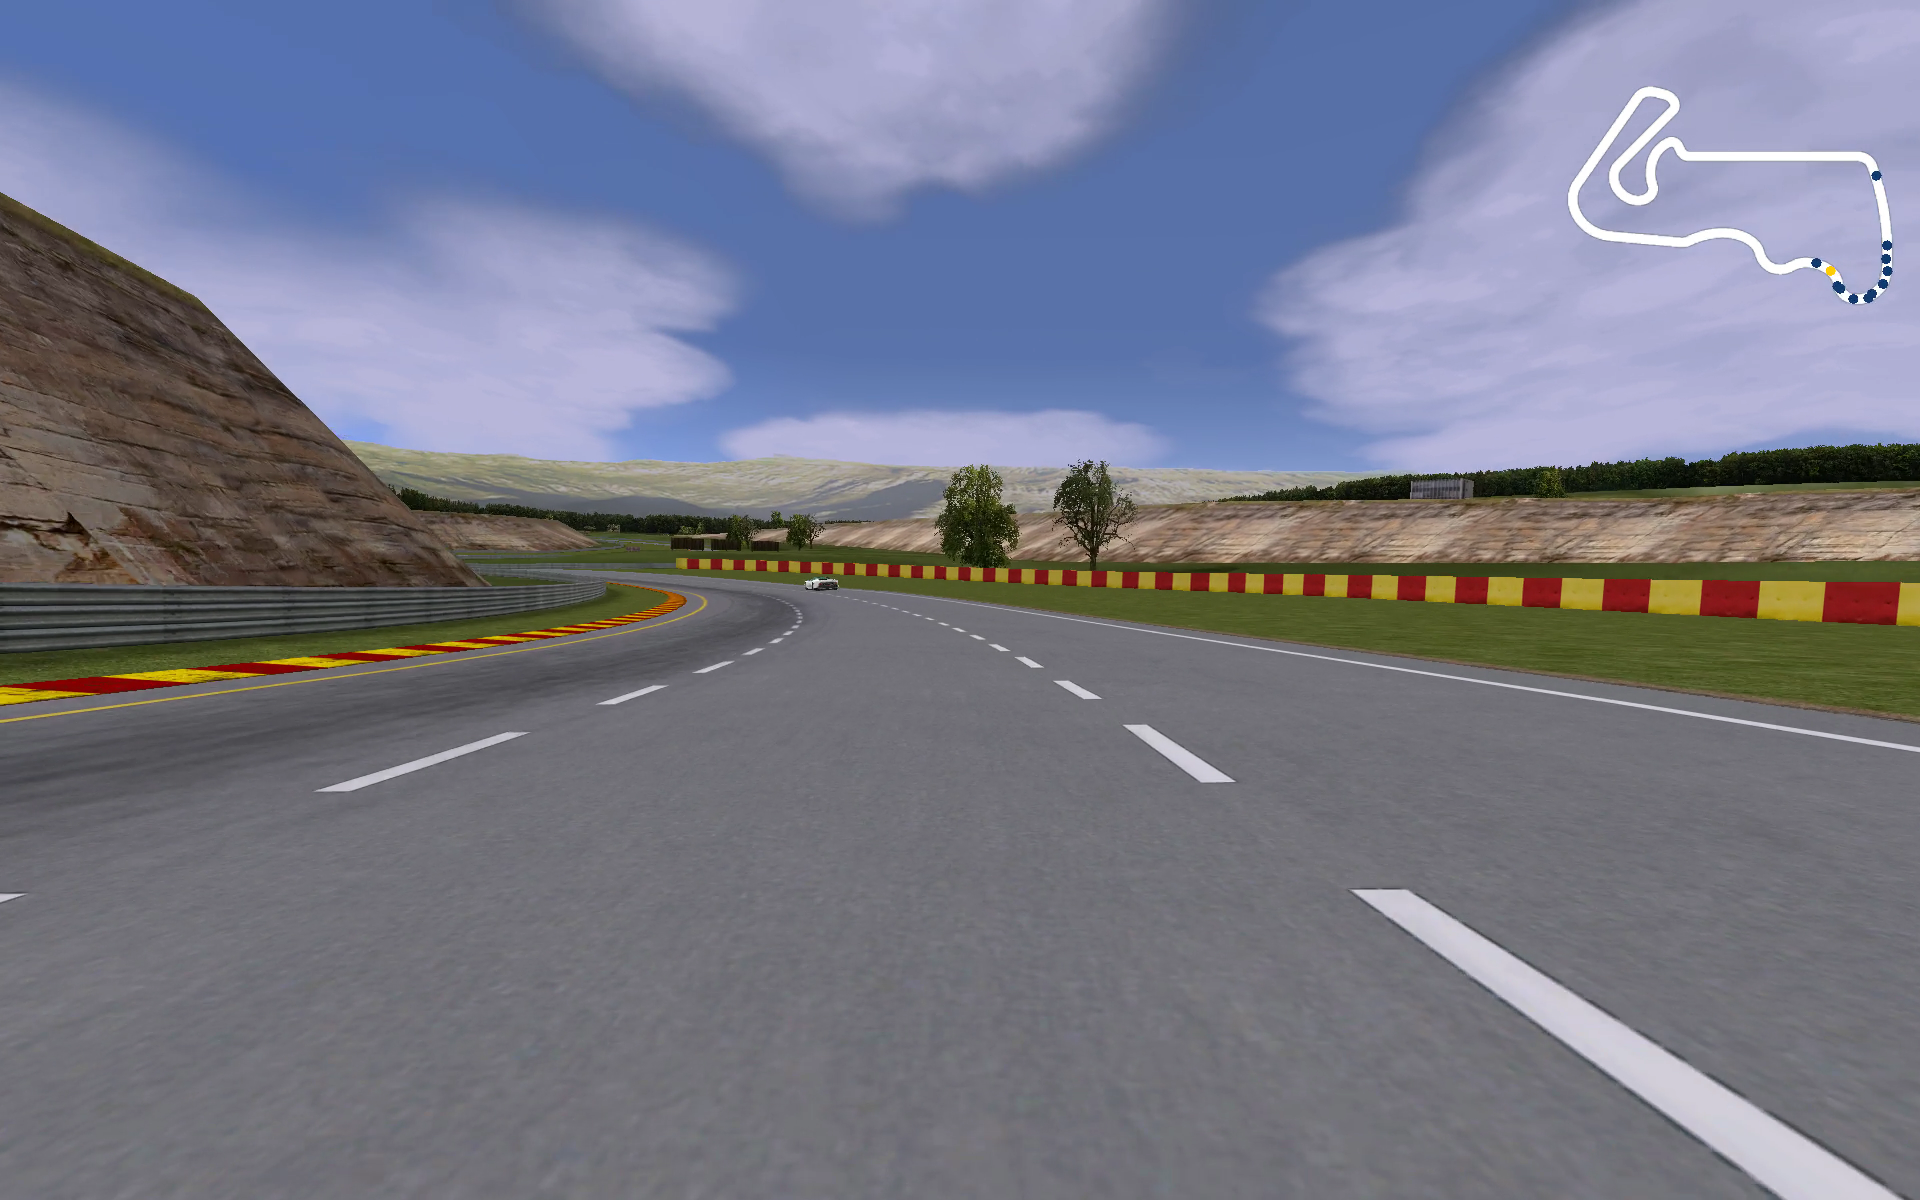car: (799, 572, 843, 592)
